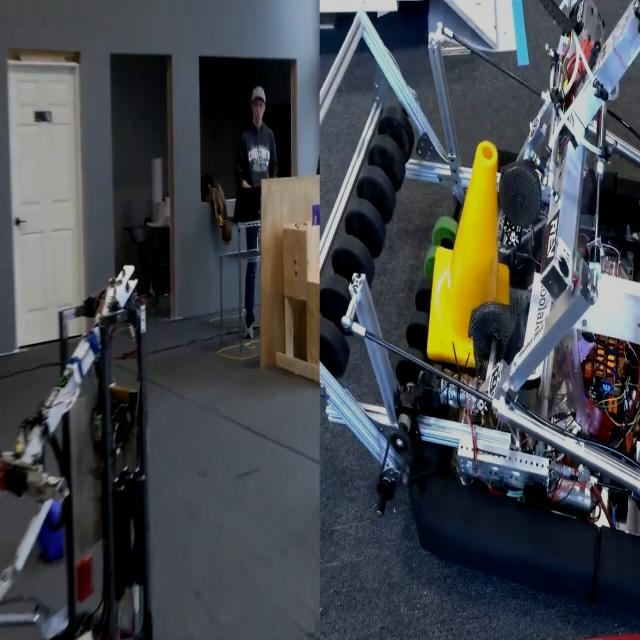frc_cone: (431, 141, 506, 369)
frc_cube: (31, 490, 67, 571), (313, 200, 321, 227)
